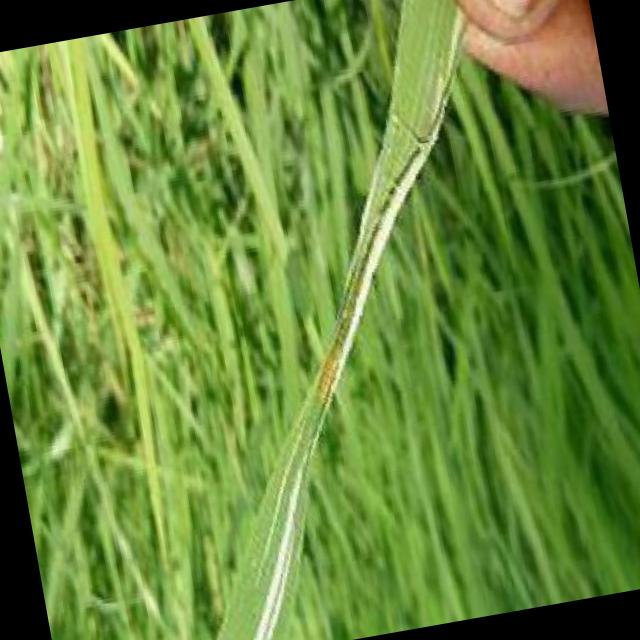leaf-folder: (276, 252, 399, 424)
